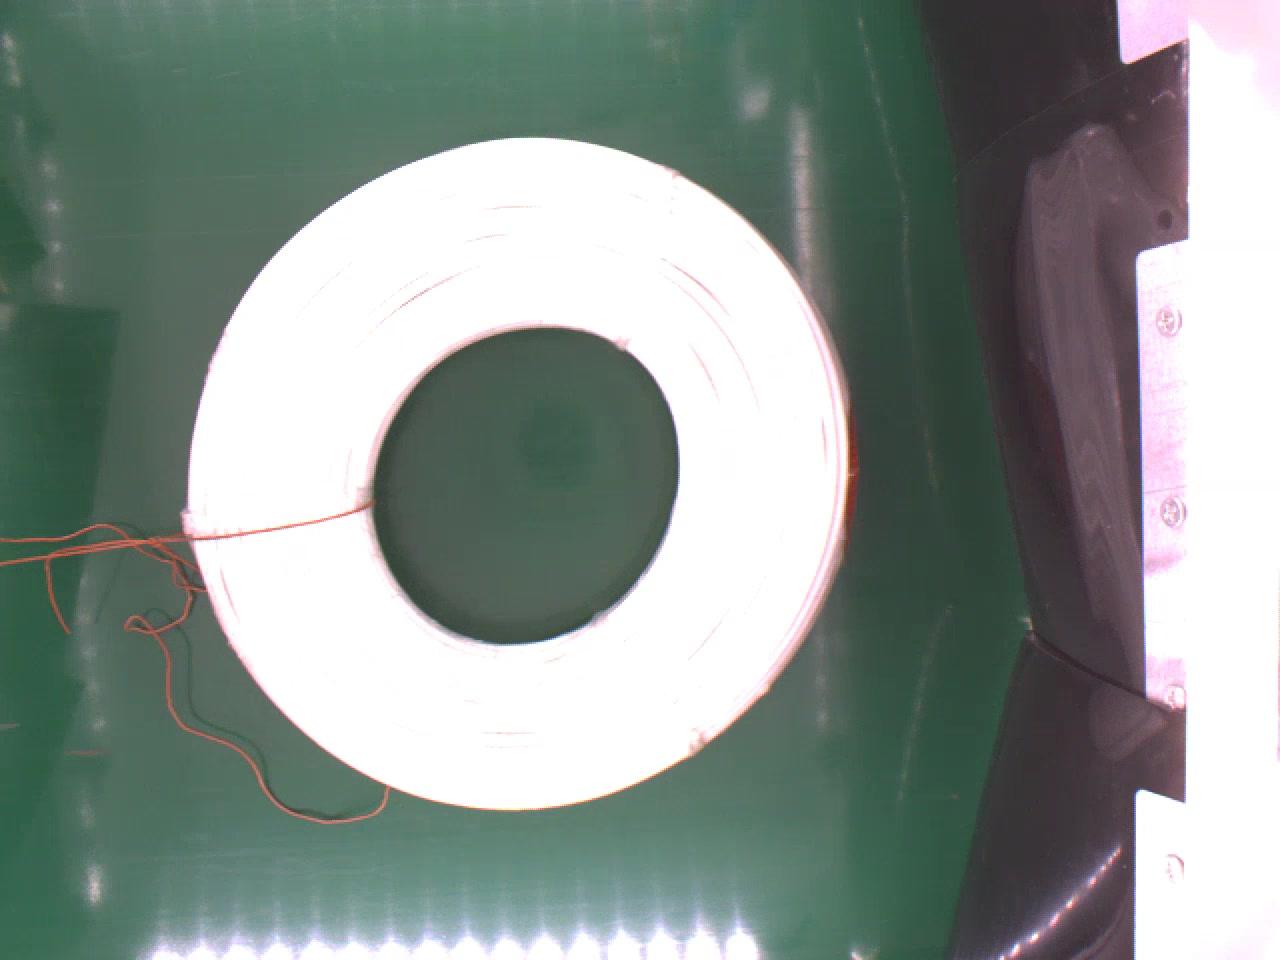white: (183, 131, 861, 802)
